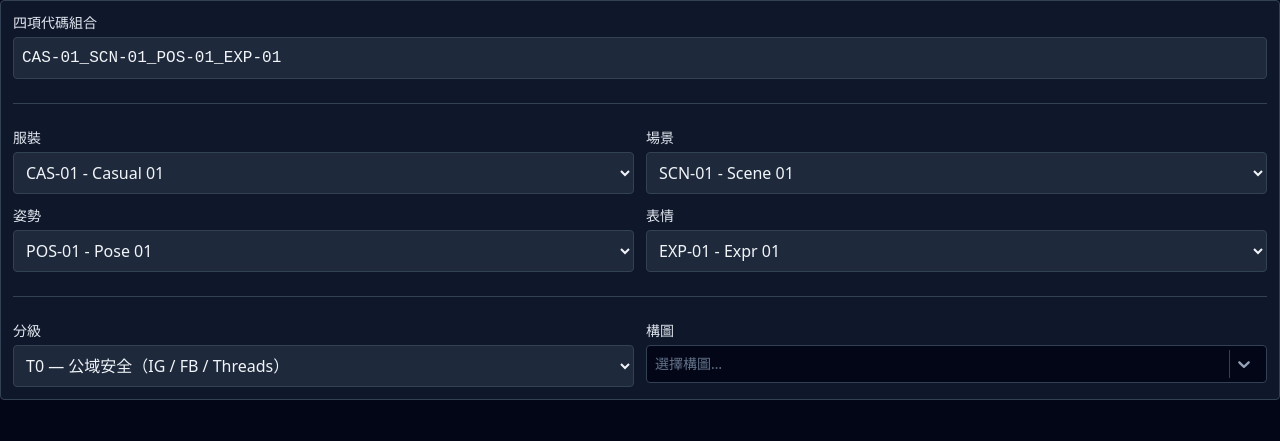
Test: OrderInput › Given default props › When invalid codes are entered › Then an error message is displayed
The image size is (1280, 441).
Type "invalid-format" into the field labelled "四項代碼組合" at x=640, y=58, box [13,37,1267,79]
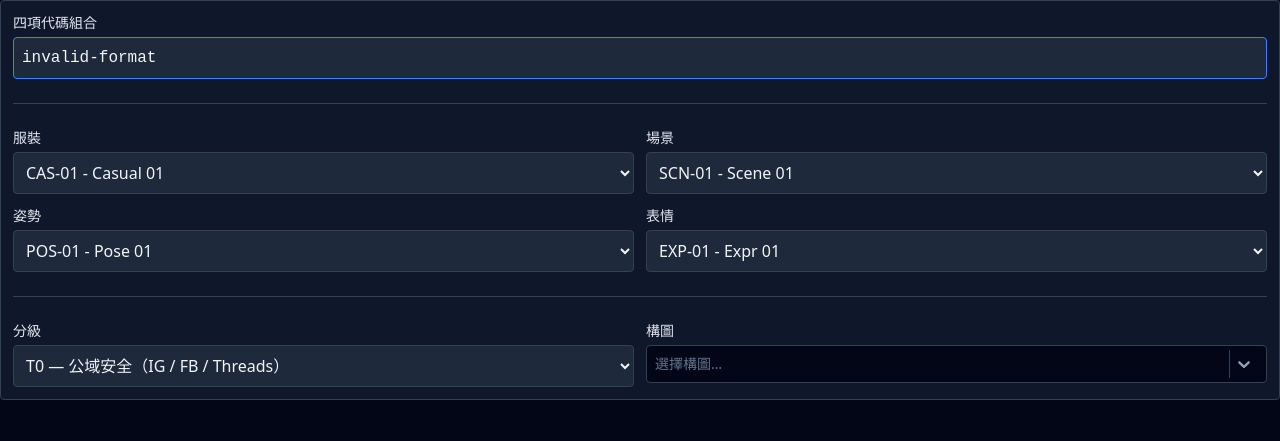
Press Tab
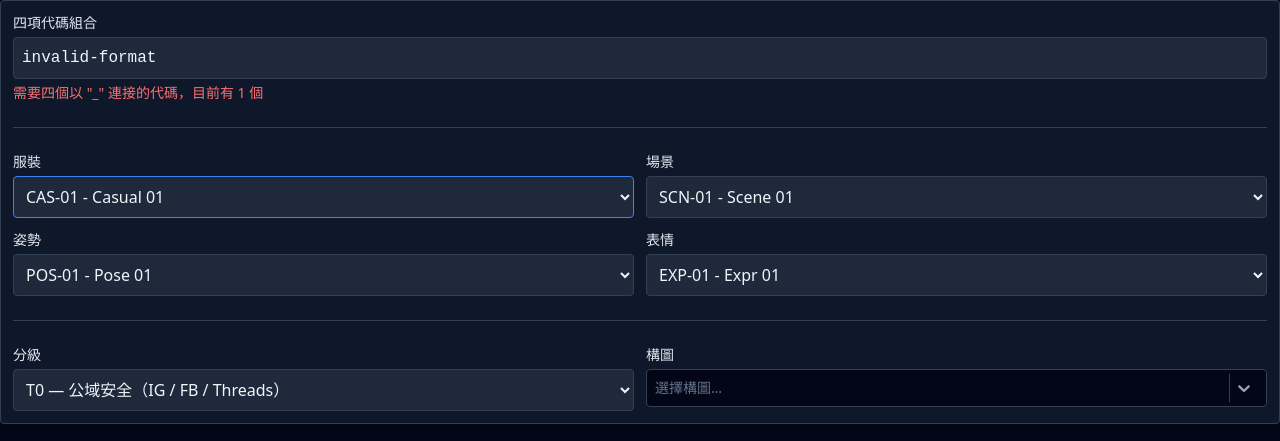
Result: the message "需要四個以 \"_\" 連接的代碼，目前有 1 個" is shown at [13,83,263,102]
